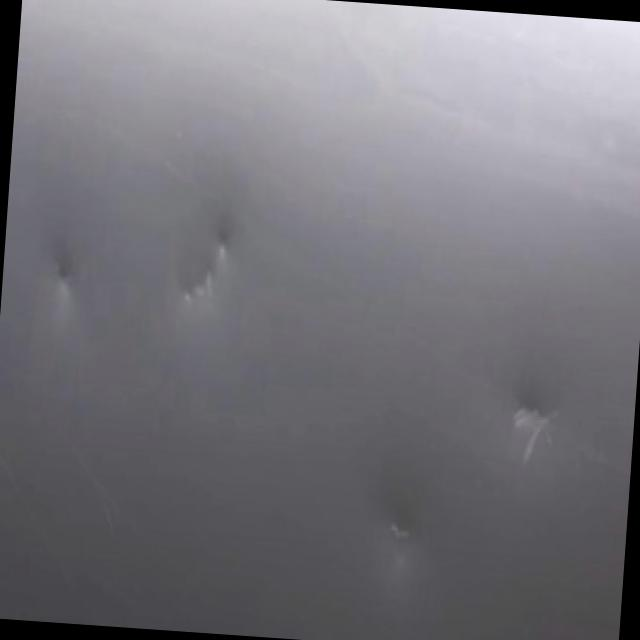dent: (162, 208, 245, 332), (477, 376, 568, 468), (37, 240, 102, 312), (362, 508, 408, 590)
